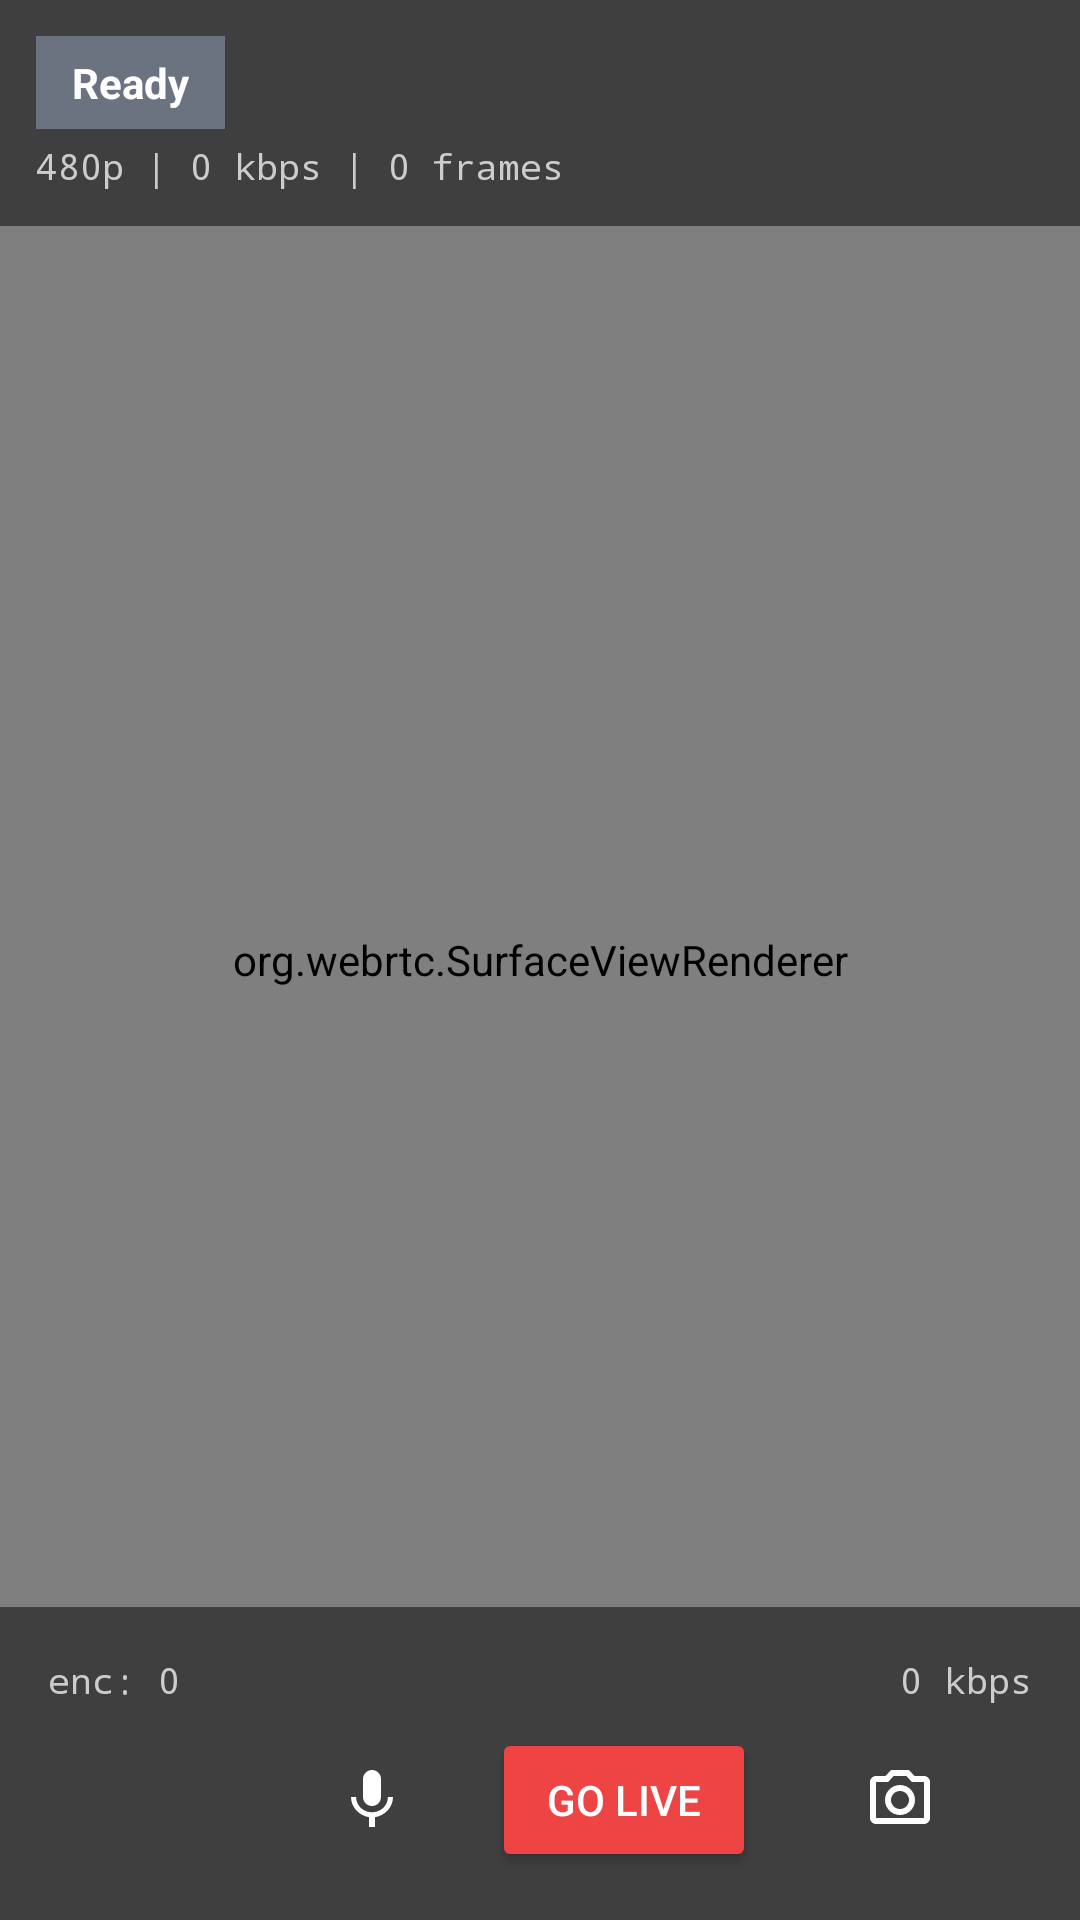

Named icons in this screenshot (1080px×1920px) and their bounding boxes, [x1, y1, x2, y2]:
Mute: [351, 1770, 393, 1827]
Switch Camera: [870, 1770, 930, 1824]
